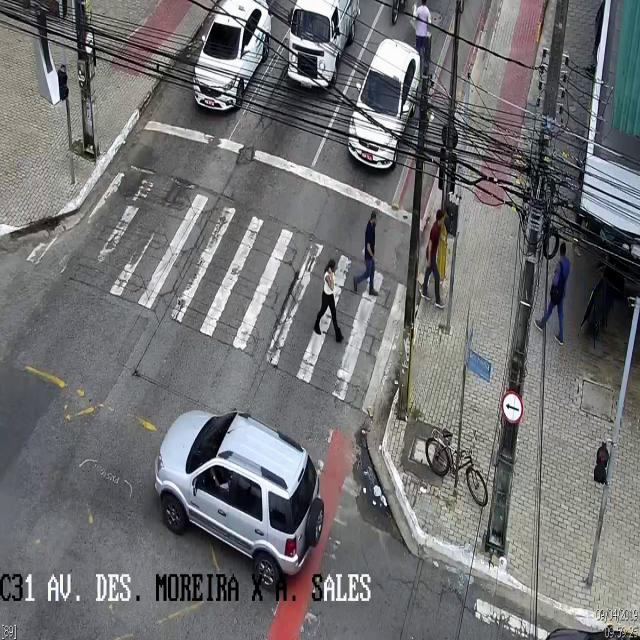Car: (155, 406, 323, 590), (347, 39, 419, 172), (191, 3, 271, 109), (291, 1, 356, 88)
